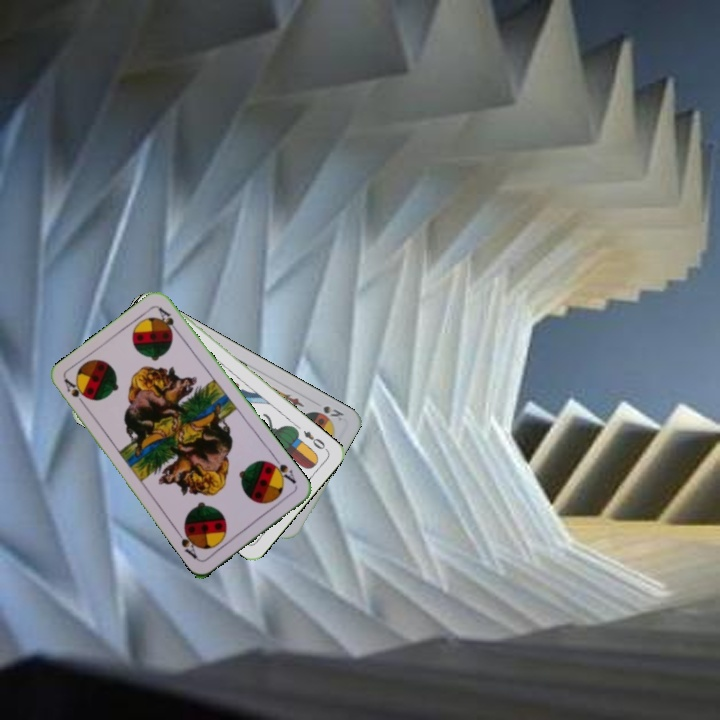EO: (299, 426, 330, 453)
SA: (265, 453, 299, 486), (60, 375, 89, 411)
SK: (312, 402, 346, 422)
